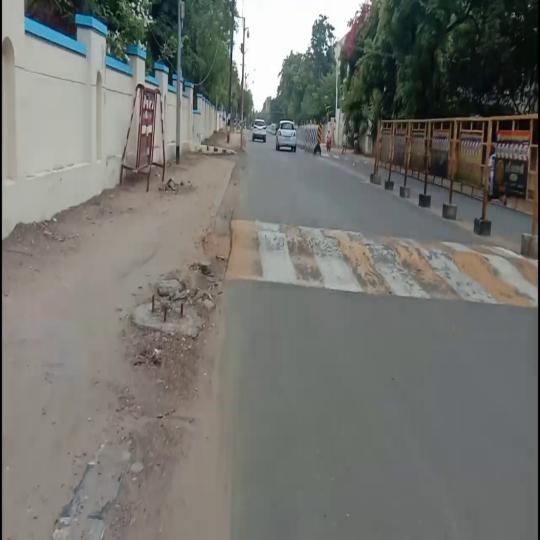Speed Bump: (224, 217, 538, 307)
